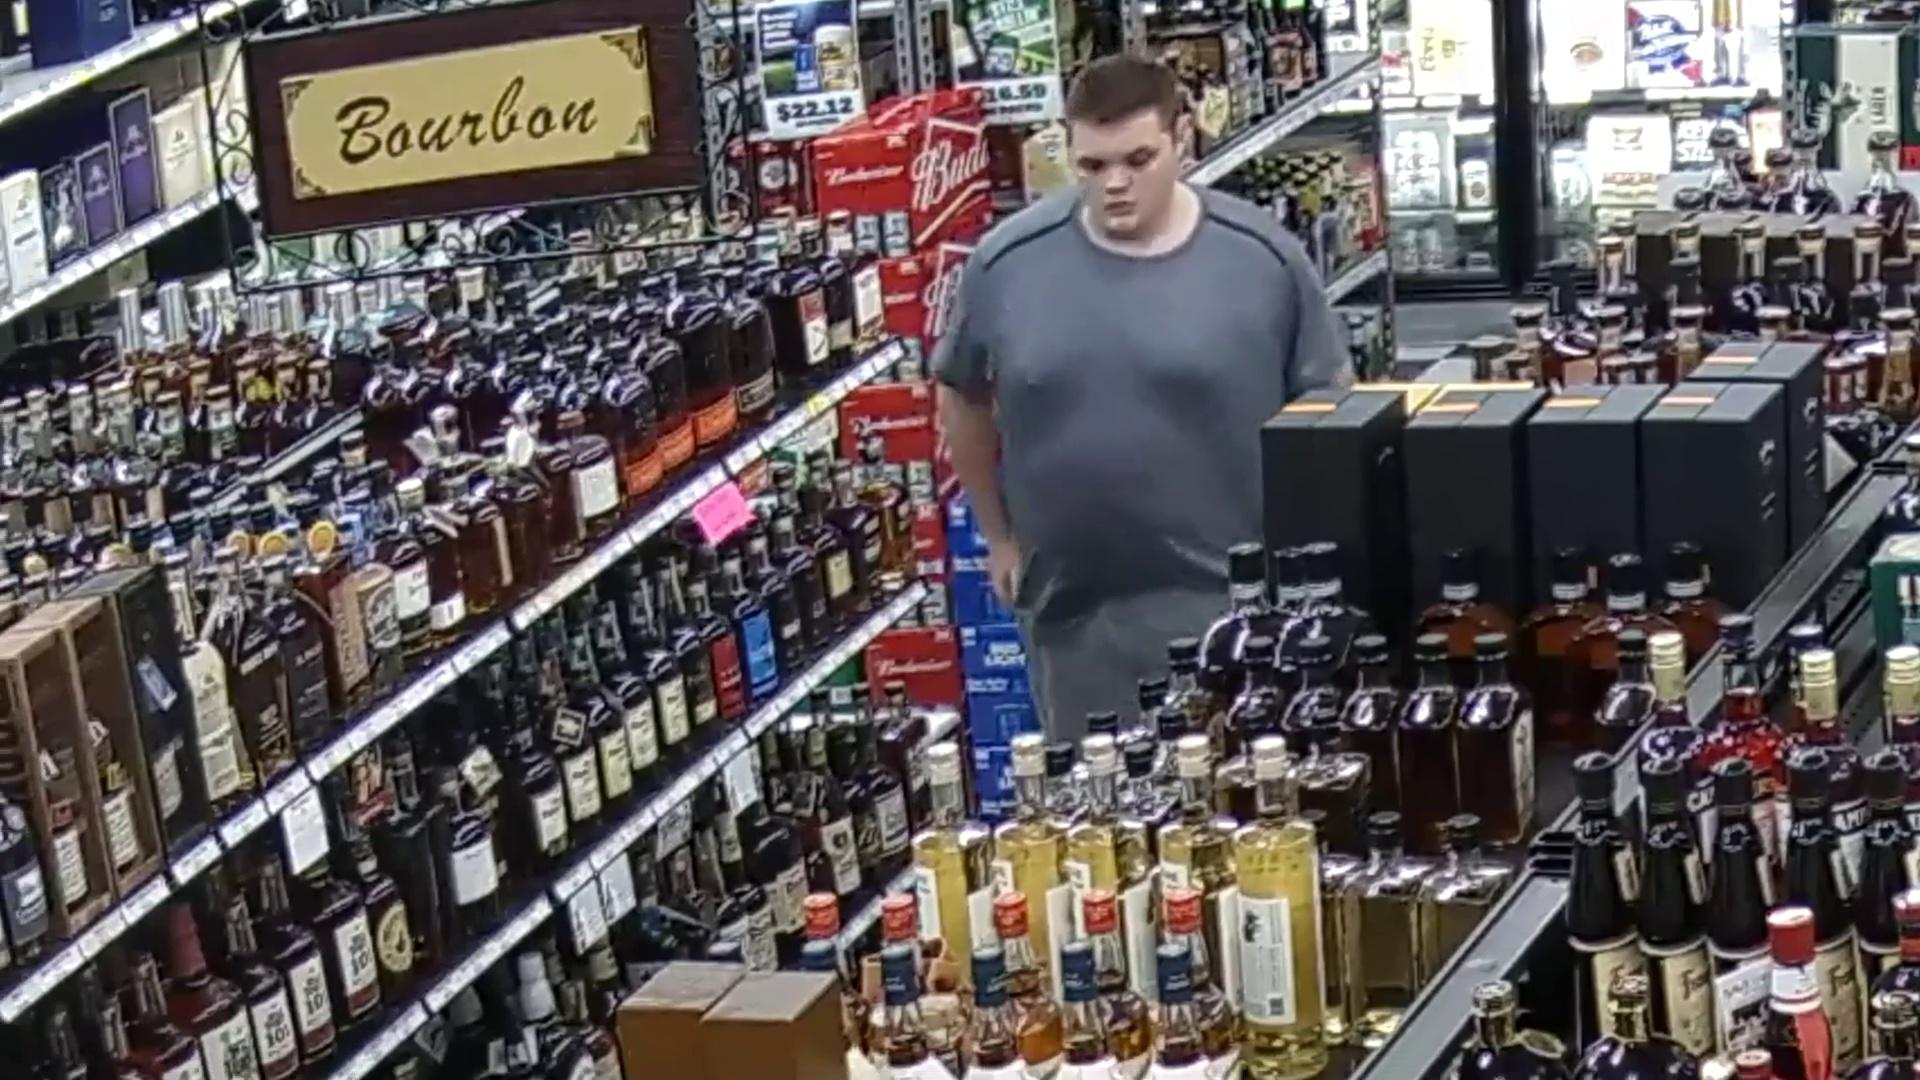Regular: (750, 0, 1407, 769)
